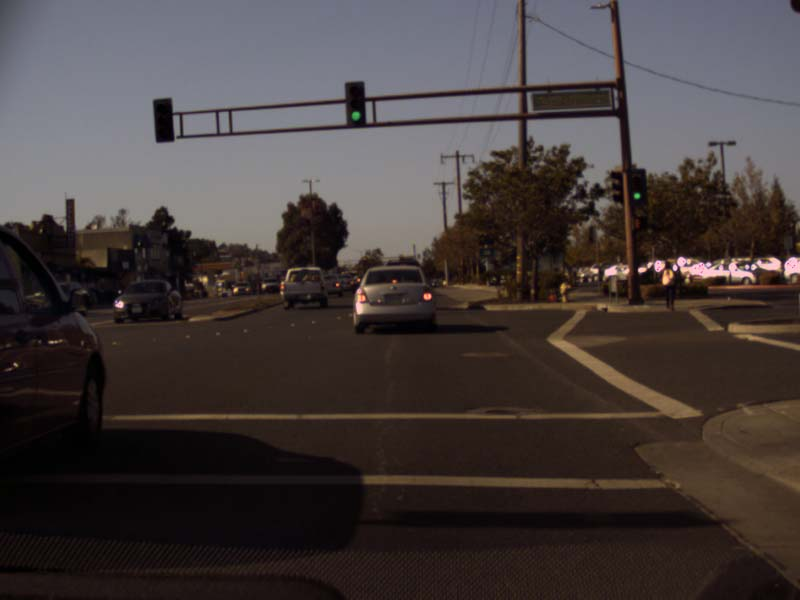Green: (345, 81, 366, 126), (627, 168, 646, 207)
Red: (362, 256, 366, 262)
